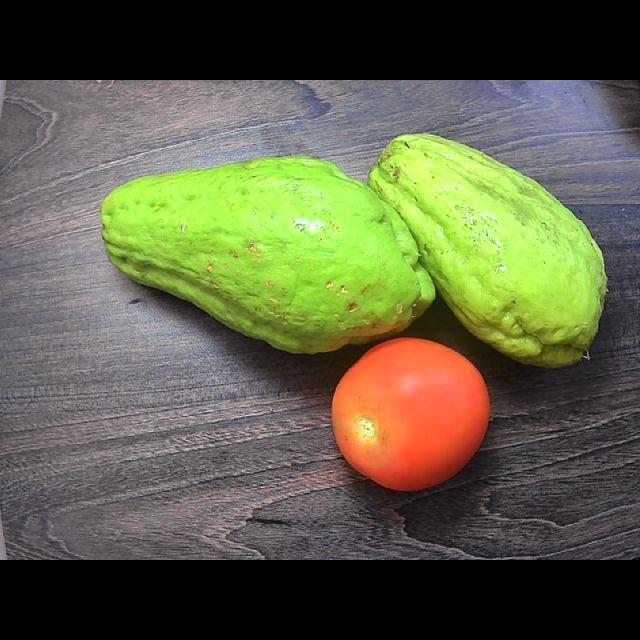chayote: (101, 156, 434, 351), (369, 134, 606, 366)
tomate: (333, 338, 489, 491)
